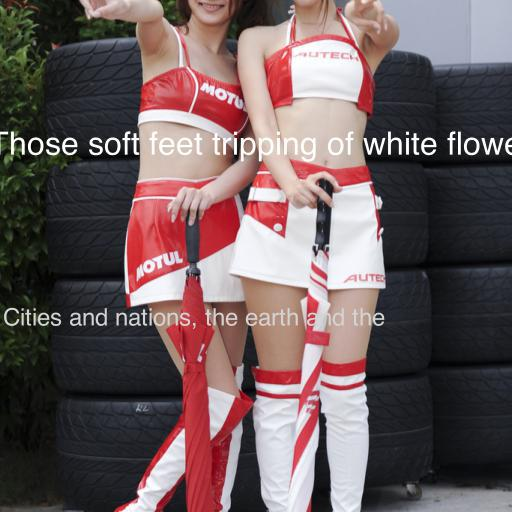Big Caslon: (0, 131, 512, 162)
SignPainter: (3, 307, 385, 330)
